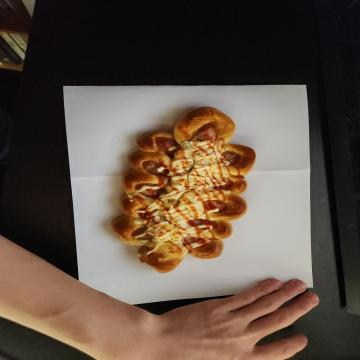pizza_bread: (108, 102, 274, 254)
